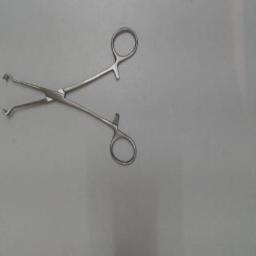Babcock Tissue Forceps: (1, 26, 141, 168)
